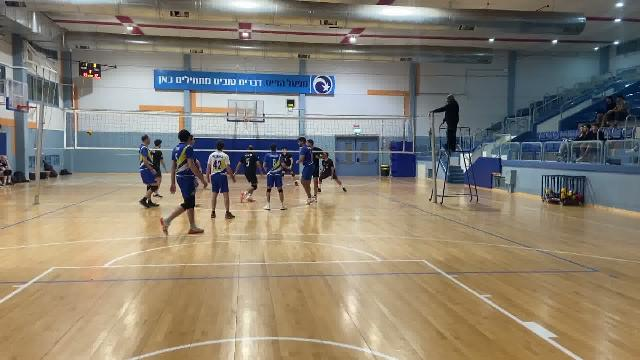ball: (83, 129, 96, 138)
